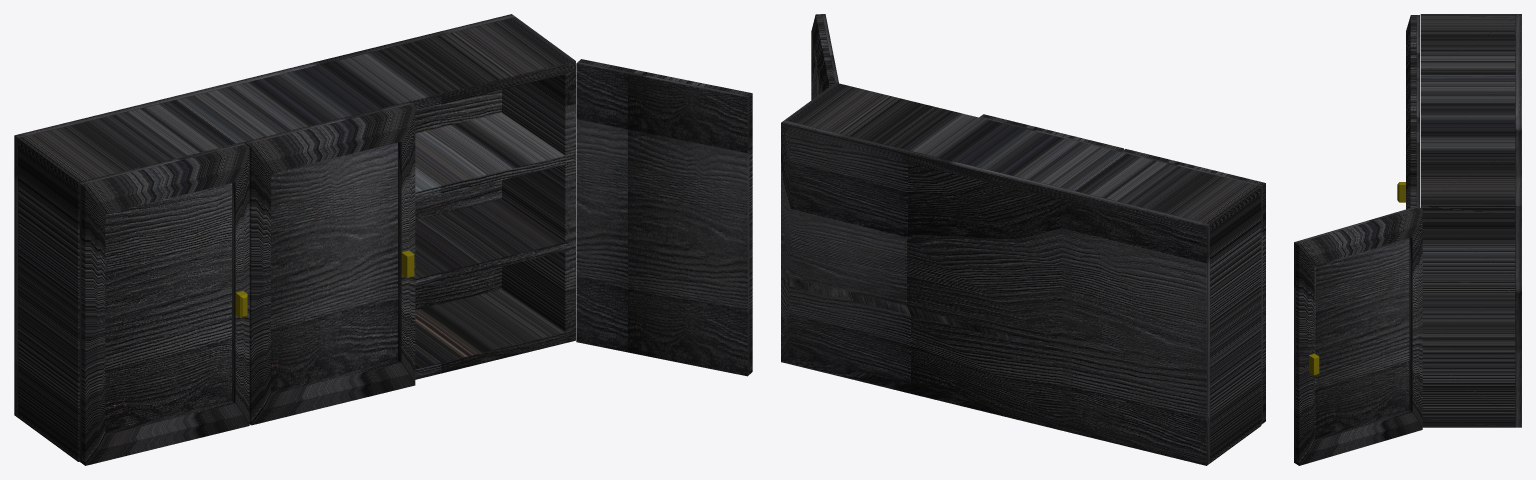
Rendered from cabinet.fbx.
The picture shows the model from 3 angles, left to right: view 1: azimuth 30°, elevation 25°; view 2: azimuth 150°, elevation 25°; view 3: azimuth 270°, elevation 25°; orthographic projection. The views are drawn at different scales.
Visible parts, largest first — view 1: pCube1, pCube4, pCube6, pCube5; view 2: pCube1, pCube6, pCube4, pCube5; view 3: pCube1, pCube4, pCube5, pCube6.
Part boxes in pixels (x1,y1,x2,y2): pCube1: (14, 14, 575, 461); pCube4: (576, 59, 752, 376); pCube6: (79, 143, 249, 465); pCube5: (245, 102, 415, 425); pCube1: (781, 82, 1261, 465); pCube6: (1121, 149, 1265, 424); pCube4: (811, 14, 838, 99); pCube5: (979, 114, 1123, 151); pCube1: (1420, 14, 1521, 427); pCube4: (1294, 206, 1422, 465); pCube5: (1406, 79, 1419, 209); pCube6: (1397, 15, 1419, 202).
Size of the model in its own units: 2.18 by 0.9637 by 0.8988.
Materials: 2 (1 with a texture image).
